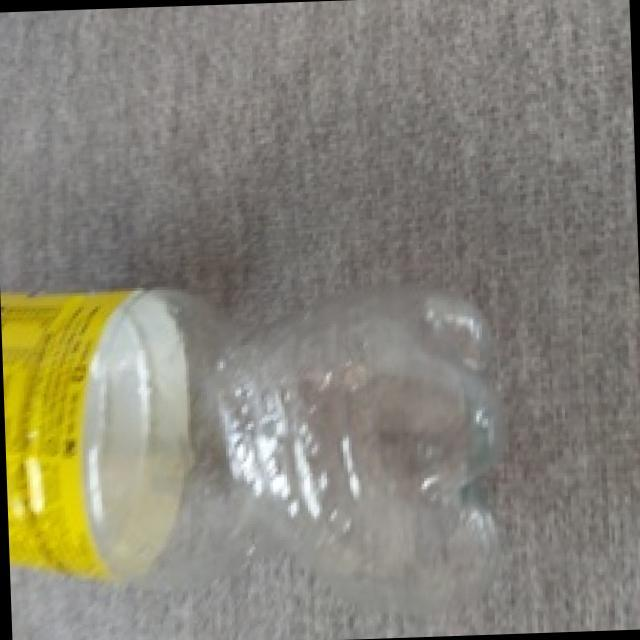good: (0, 253, 541, 634)
